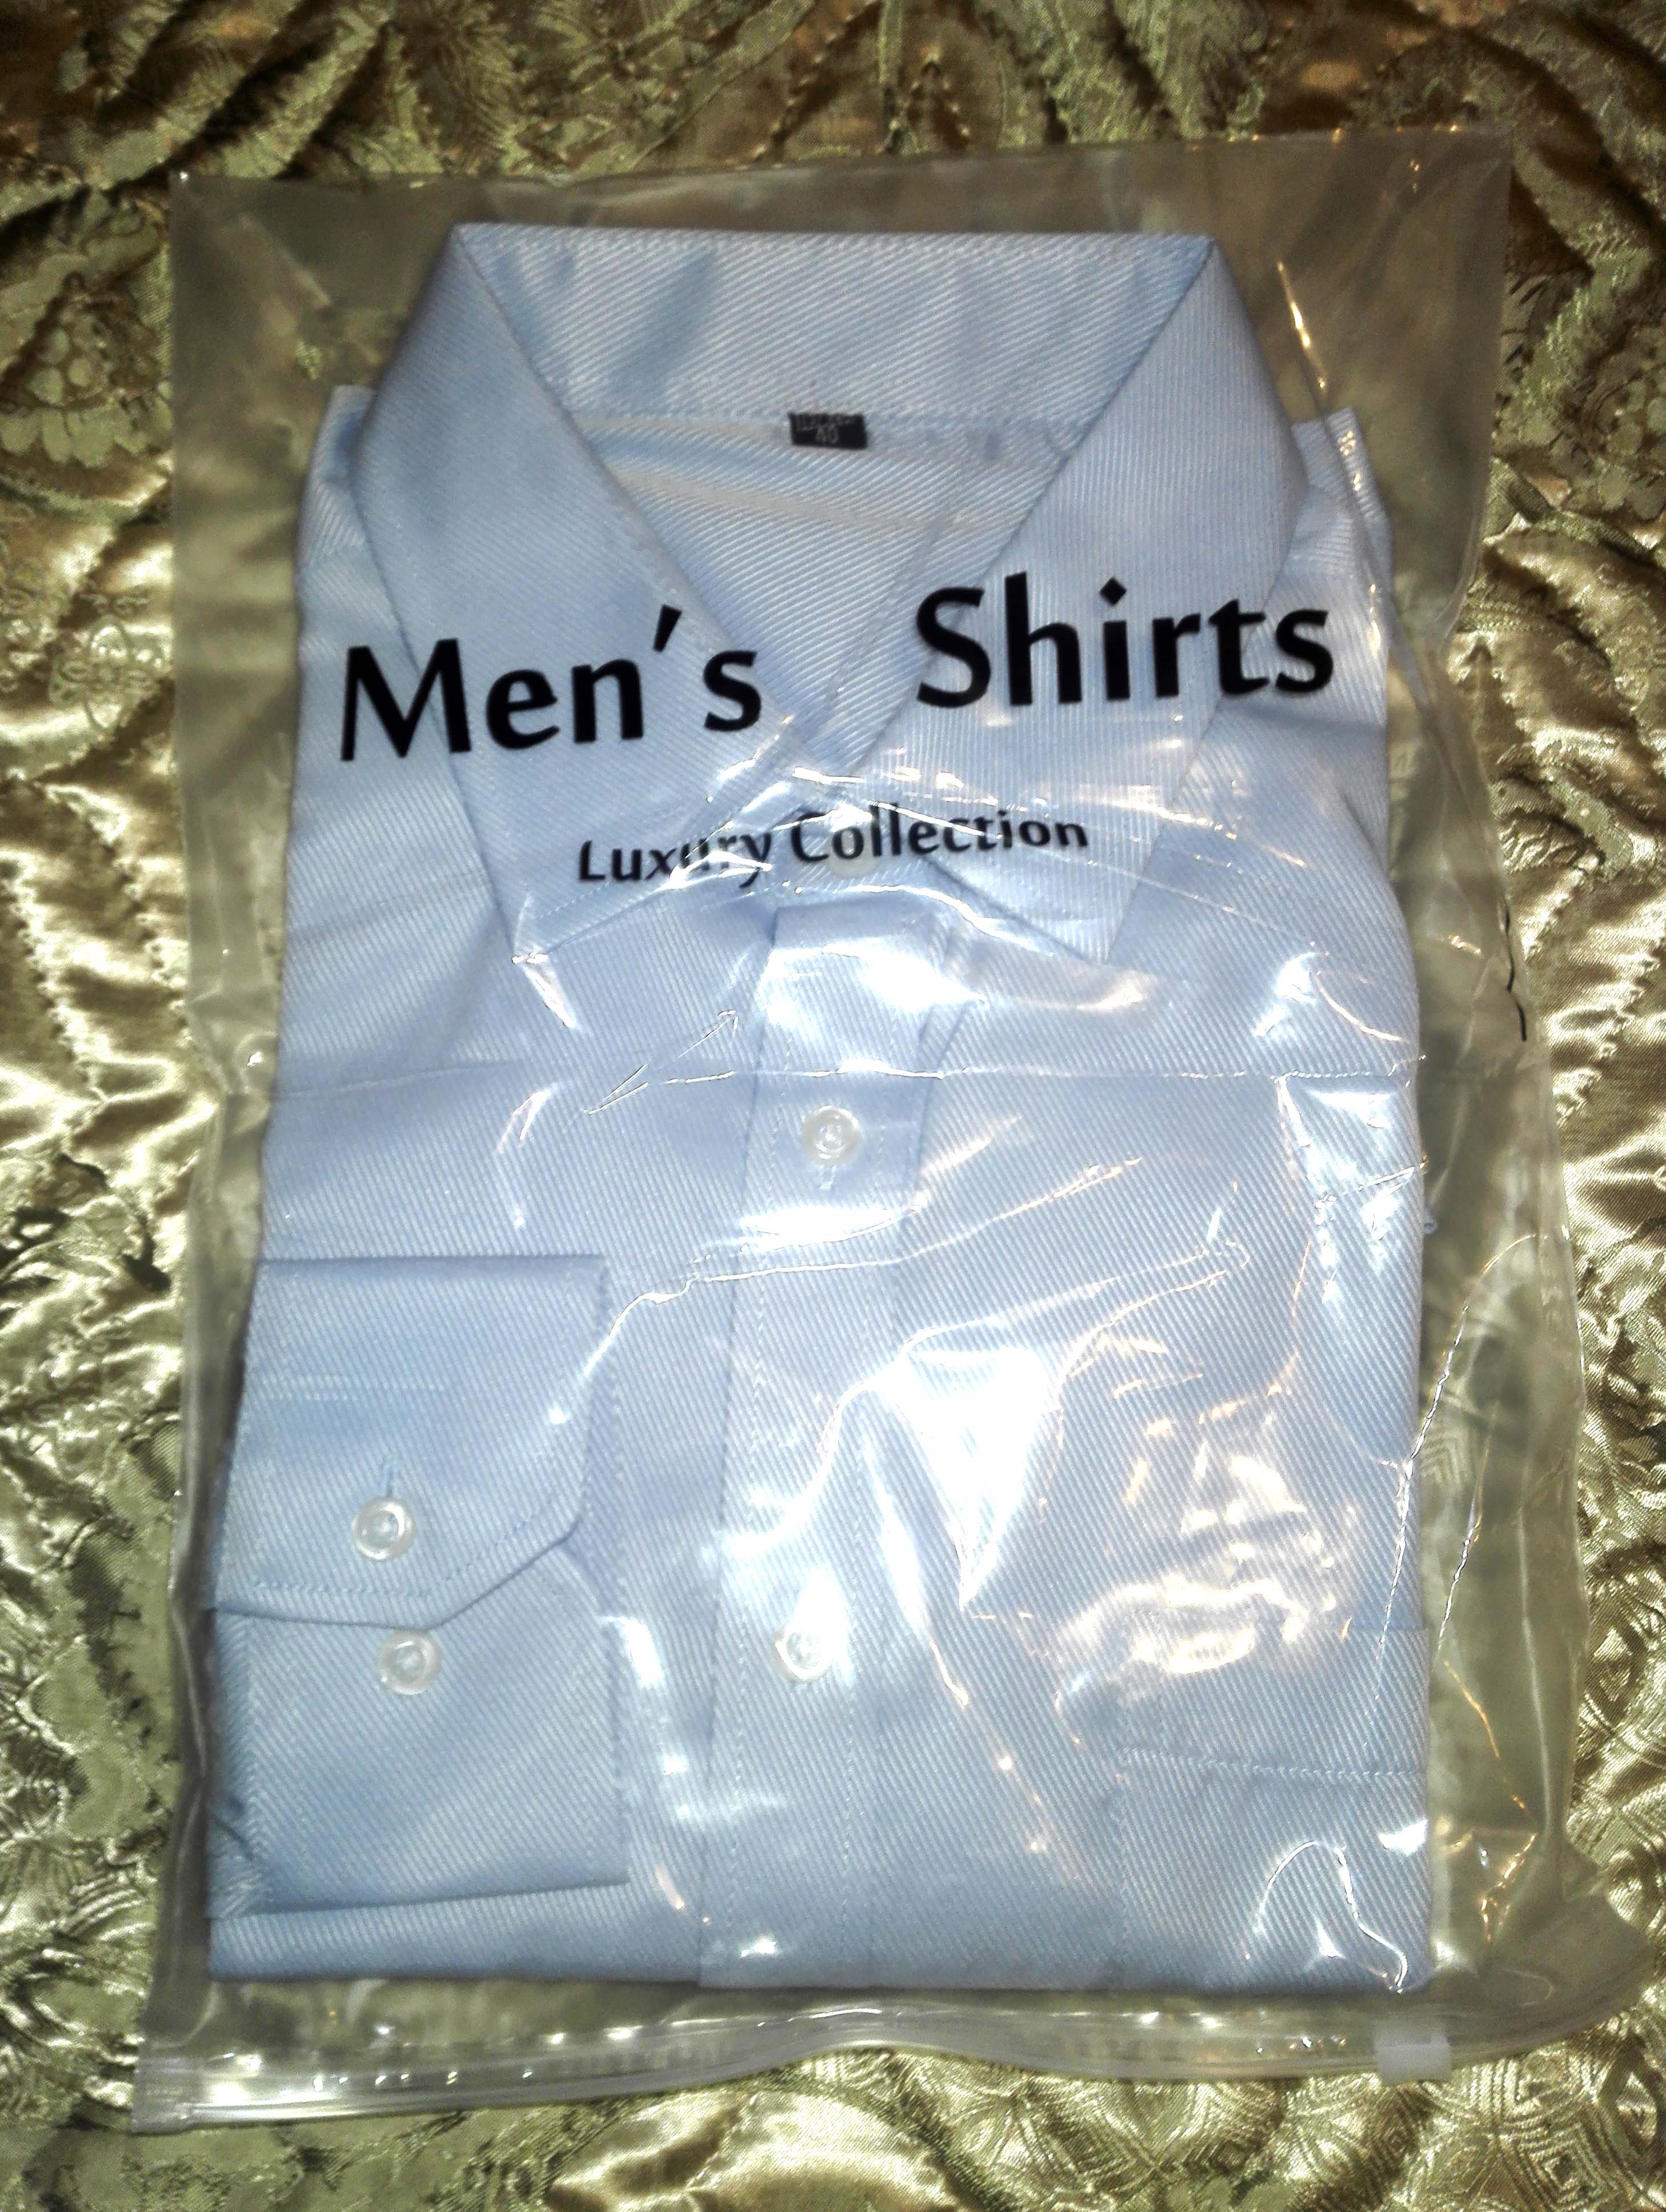shirts: (250, 210, 1452, 1944)
